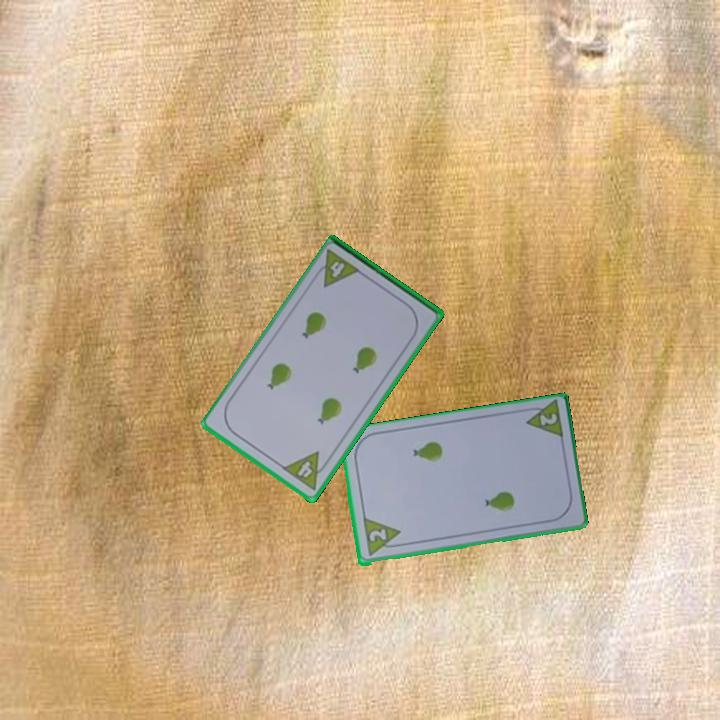2p: (359, 516, 405, 559), (536, 410, 560, 429)
4p: (279, 448, 333, 493), (310, 246, 364, 290)
